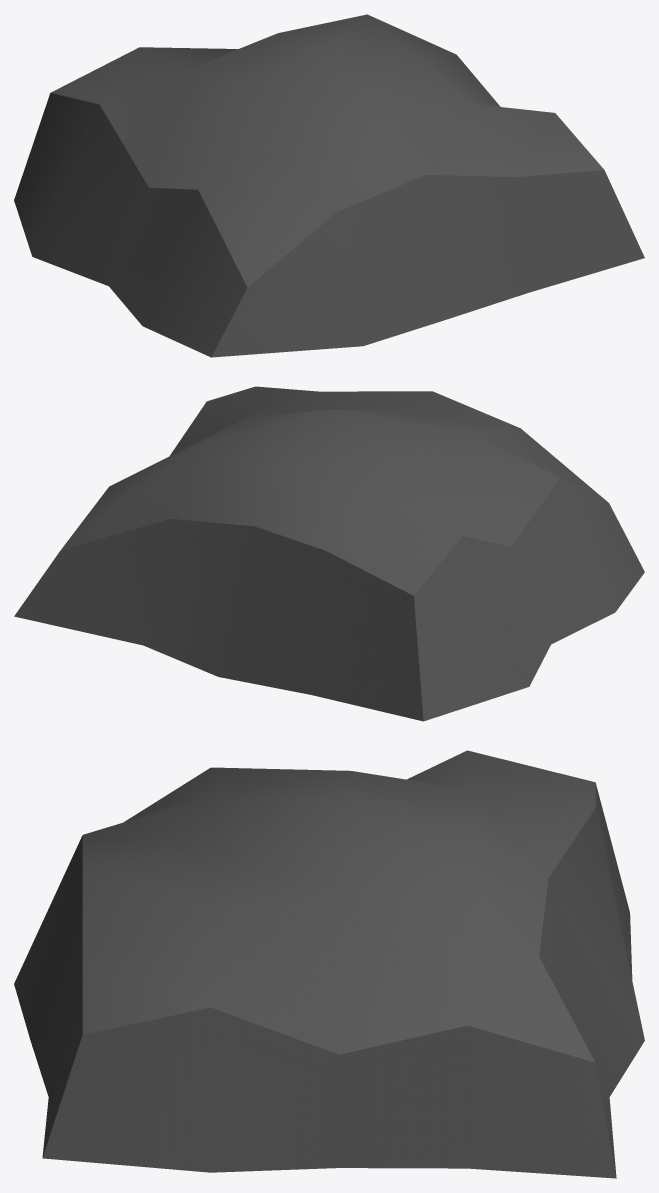
The model's file is Rock4.FBX.
3 renders of one model, top to bottom at view 1: azimuth 30°, elevation 25°; view 2: azimuth 150°, elevation 25°; view 3: azimuth 270°, elevation 25°, orthographic. The views are drawn at different scales.
Parts seen in each view (by area): view 1: Box001; view 2: Box001; view 3: Box001.
Boxes of the visible parts, <box> form: Box001: <box>14,14,644,357</box>; Box001: <box>14,386,644,721</box>; Box001: <box>14,750,644,1178</box>.
Bounding box in the file's own units: 44.37 × 16.87 × 40.25.
1 material, 1 textured.
